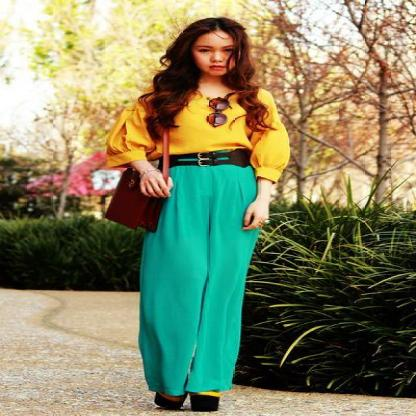bag: (104, 146, 170, 232)
pants: (138, 158, 290, 395)
shirt: (93, 88, 289, 184)
shoe: (154, 390, 224, 411)
sunglass: (207, 92, 233, 127)
